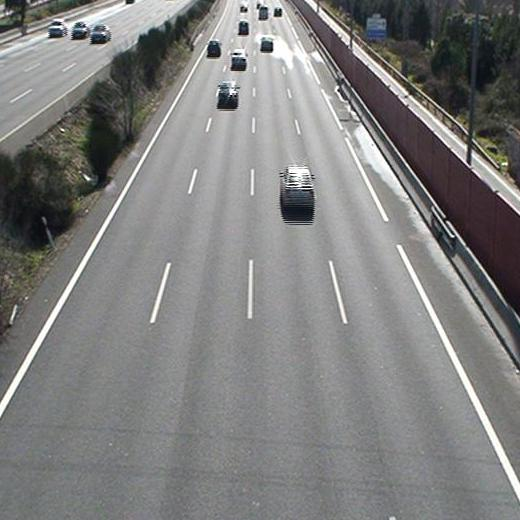car: (278, 167, 316, 210), (215, 81, 239, 107), (231, 49, 248, 69), (207, 39, 222, 58), (260, 37, 274, 54), (238, 19, 248, 36)
